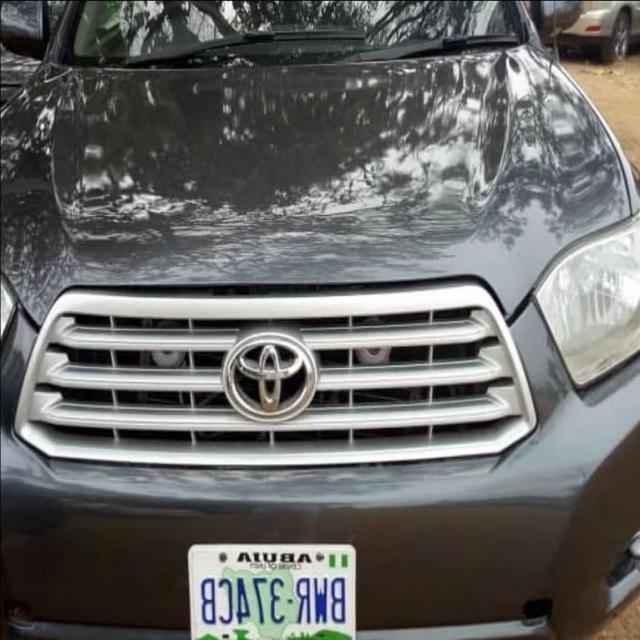Nigerian License Plate - vdataset benjamin-daria: (185, 537, 357, 640)
